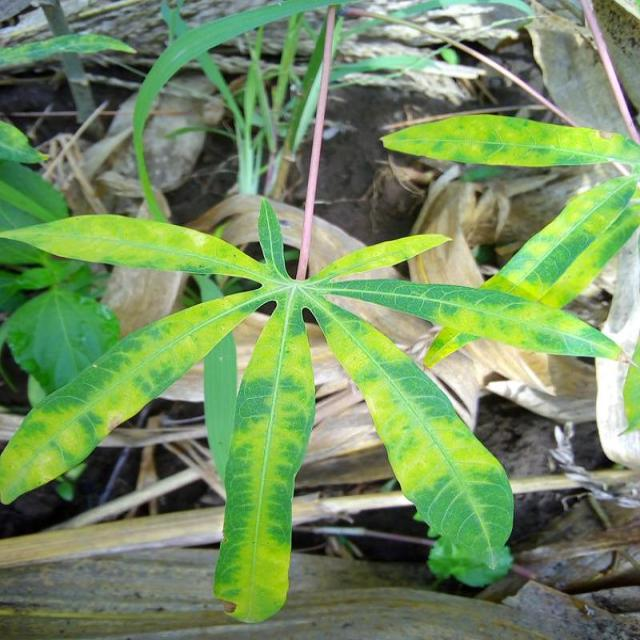cassava leaf: (0, 183, 635, 622)
